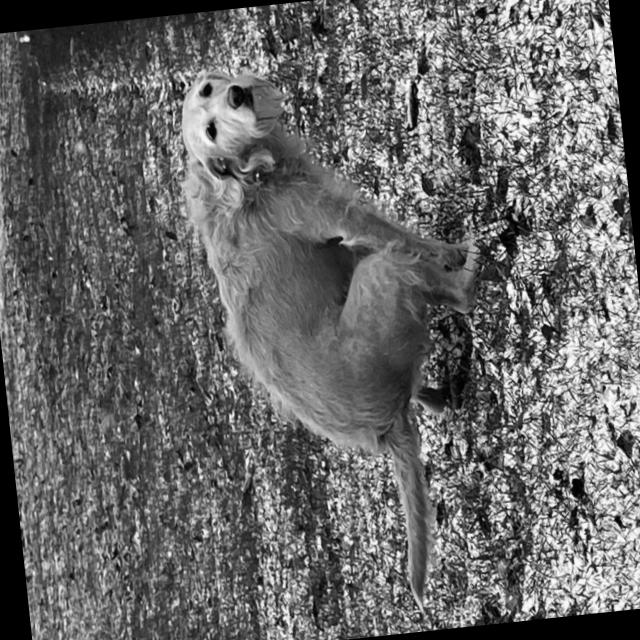squatting: (168, 36, 528, 640)
